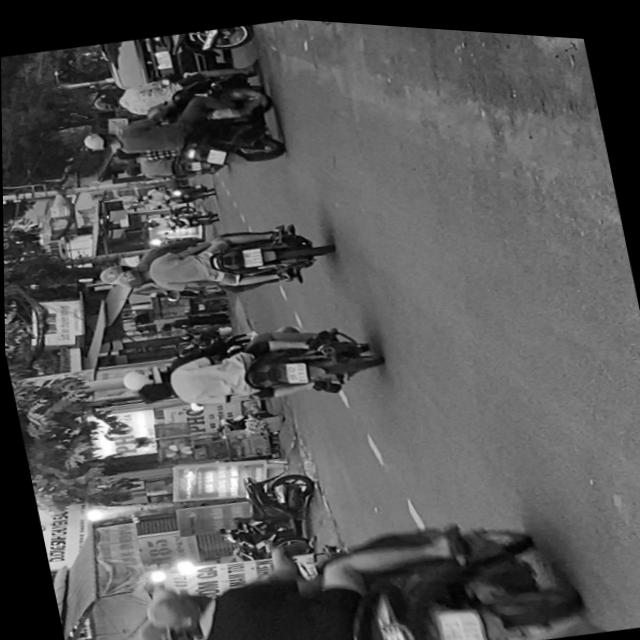helmet: (138, 578, 218, 636), (133, 609, 204, 640), (118, 361, 163, 393), (114, 263, 152, 289), (80, 127, 116, 153), (96, 260, 130, 287), (91, 91, 122, 113)
licenseplate: (113, 474, 587, 640), (113, 297, 387, 434), (91, 201, 338, 320), (75, 72, 293, 192)
motorcyclist: (134, 377, 174, 406)
nohelmet: (435, 600, 483, 640), (283, 356, 308, 381), (204, 142, 229, 164), (241, 243, 263, 264)
